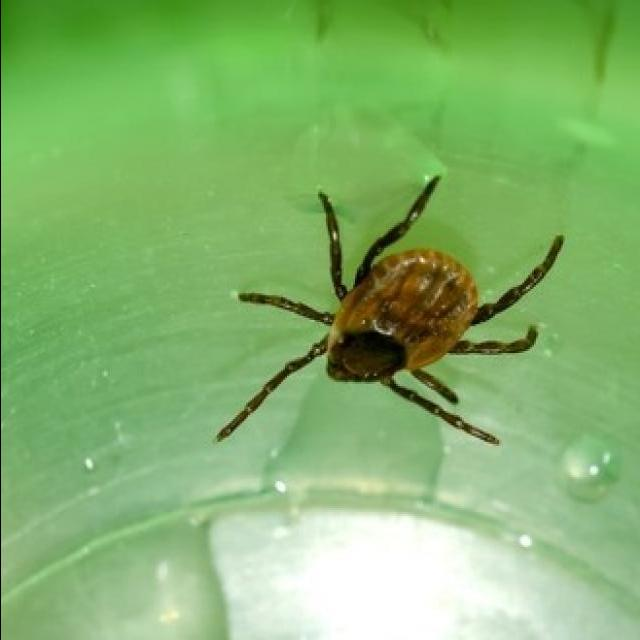Rhipicephalus Sanguineus-F: (214, 178, 562, 446)
